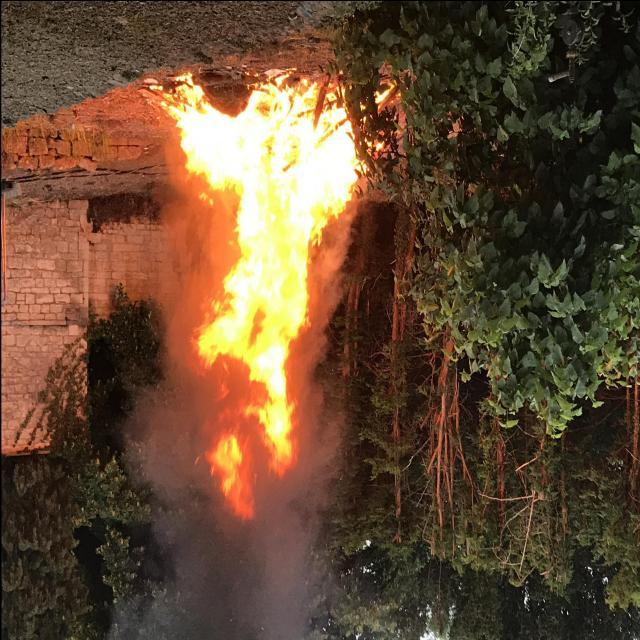Fire: (145, 66, 384, 484)
